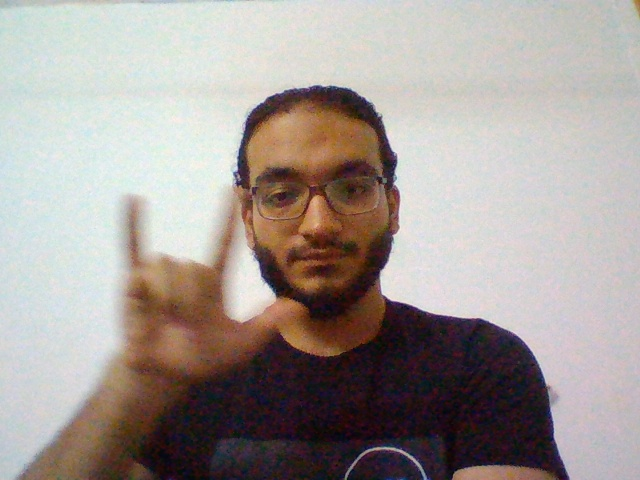I Love Yoy: (110, 183, 311, 391)
